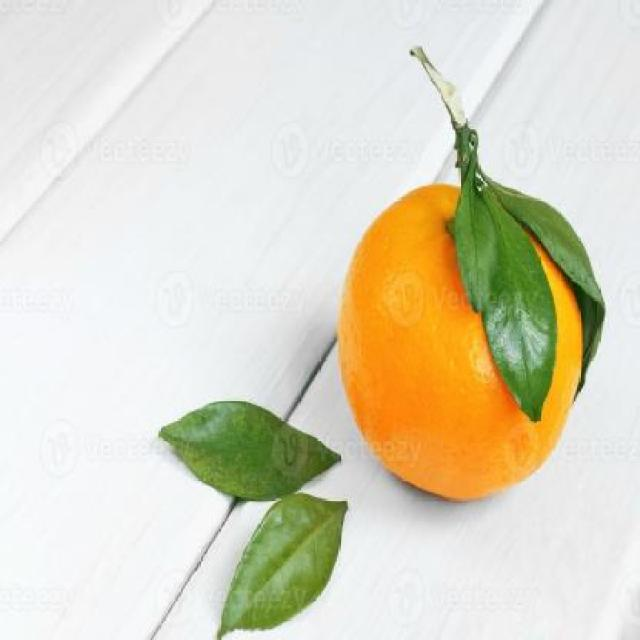Orange: (334, 180, 586, 502)
